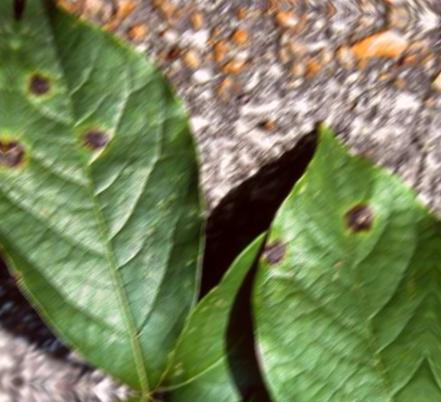Tomato leaf bacterial spot: (0, 0, 236, 401), (223, 107, 441, 402)
